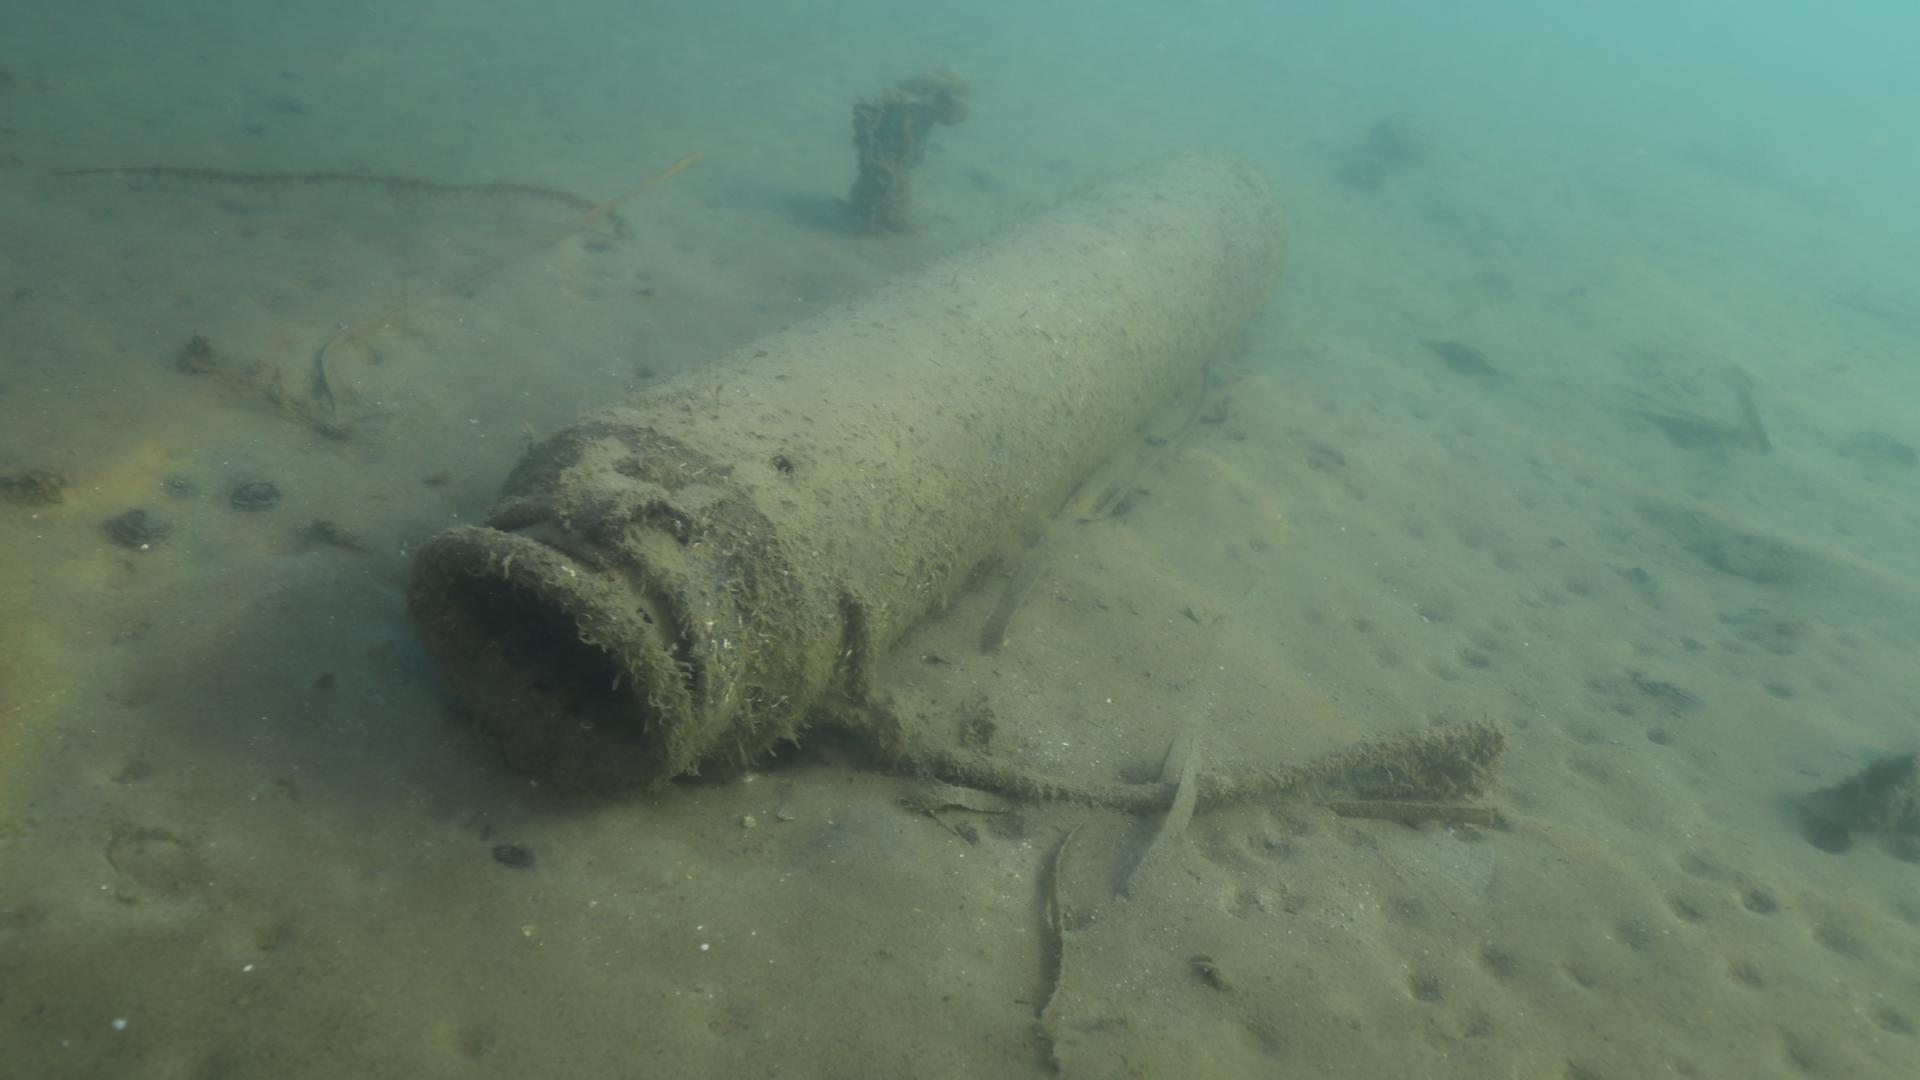eel fish trap: (401, 148, 1286, 804)
